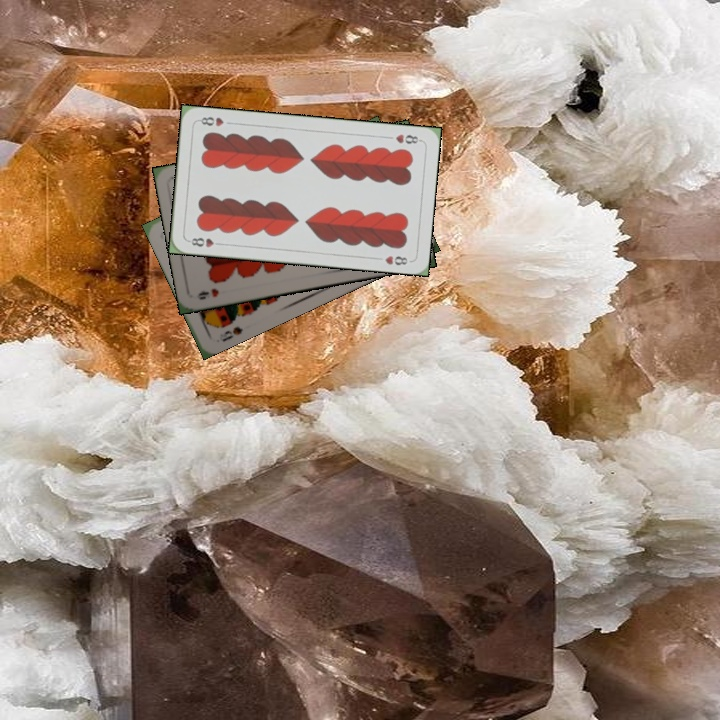H8: (185, 234, 225, 250), (391, 130, 424, 146)
H9: (193, 284, 221, 302)
S8: (215, 322, 245, 344)
